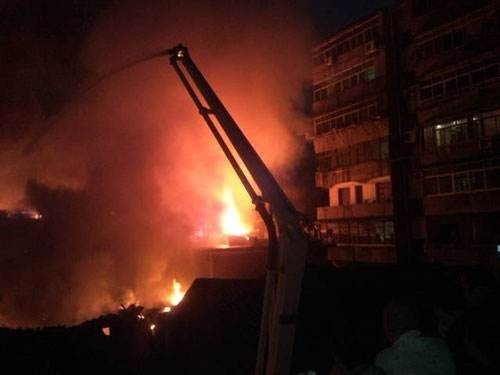fire: (214, 182, 253, 242), (160, 276, 189, 311)
